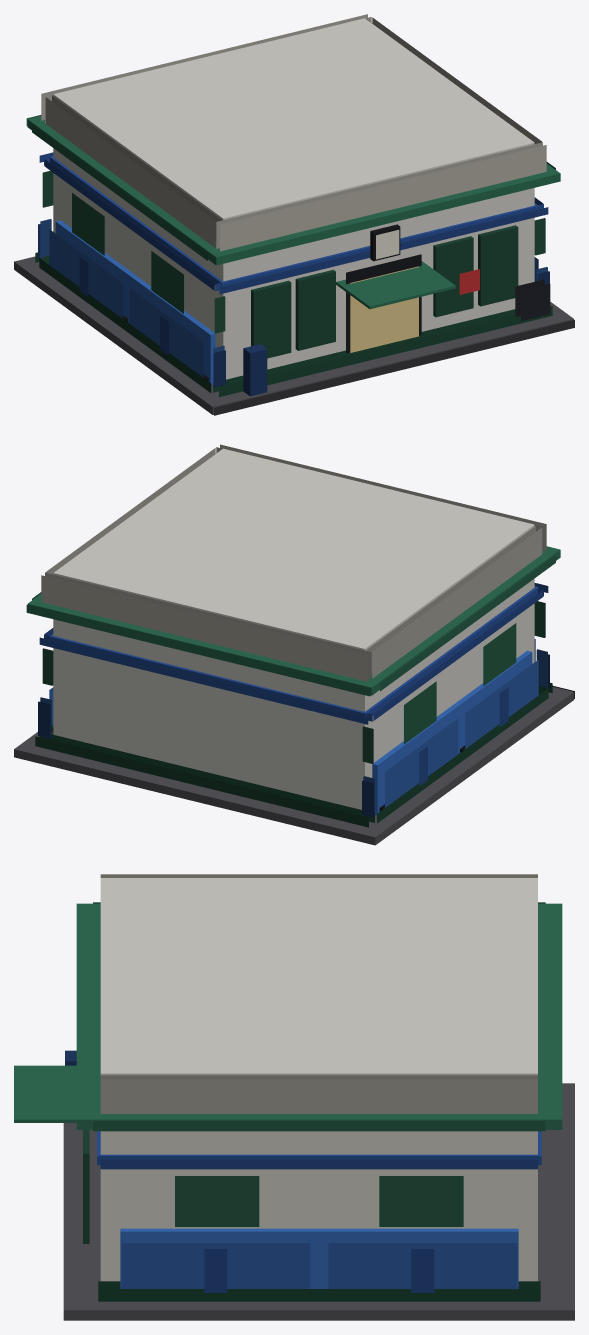
Rendered from SubwaySnailSil.fbx.
The picture shows the model from 3 angles, top to bottom: view 1: azimuth 30°, elevation 25°; view 2: azimuth 150°, elevation 25°; view 3: azimuth 270°, elevation 25°; orthographic projection. The views are drawn at different scales.
Visible parts, largest first — view 1: SW_S_All; view 2: SW_S_All; view 3: SW_S_All.
Part boxes in pixels (box(x1,y1,x2,y2)): SW_S_All: box(14, 14, 574, 415); SW_S_All: box(14, 444, 574, 845); SW_S_All: box(14, 874, 574, 1320).
Bounding box in the file's own units: 42.04 × 20 × 43.94.
